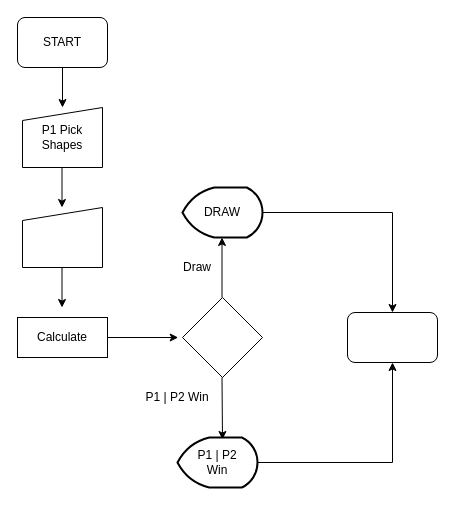
Some shapes in this 455 by 506 pixel diagram are drawn without their labels. Here are the shapes that lost their labels. From the top down, the box of each, then its label:
(22, 206, 102, 268): P2 Pick Shapes
(346, 312, 438, 362): END
